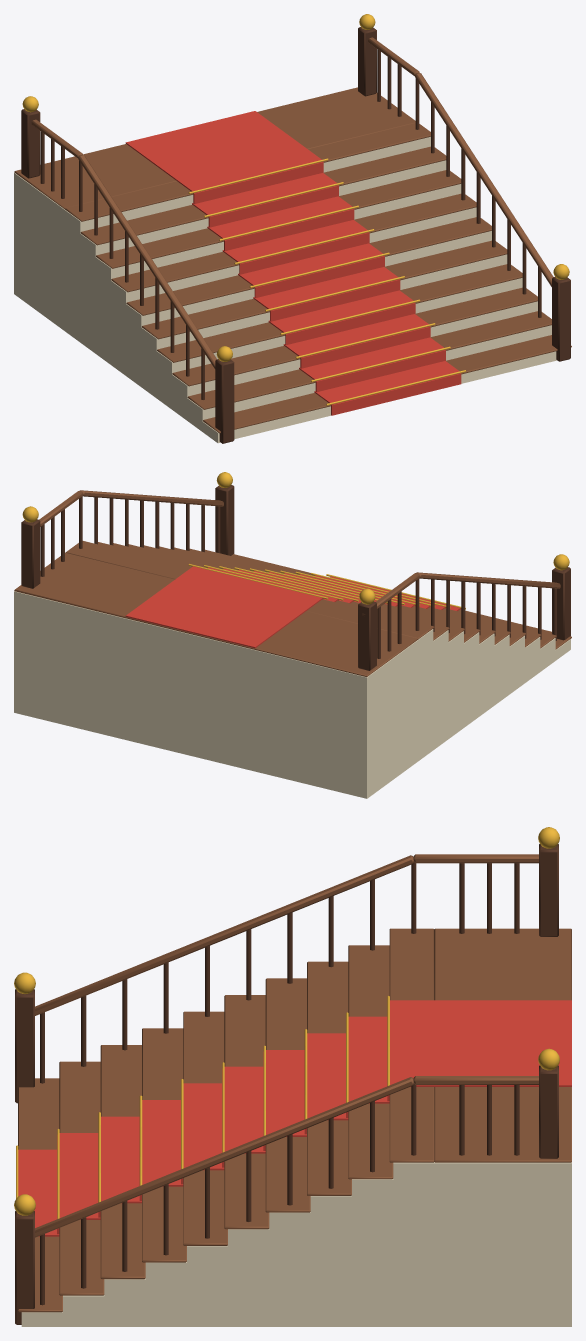
Rendered from grand_staircase.glb.
3 renders of one model, top to bottom at view 1: azimuth 30°, elevation 25°; view 2: azimuth 150°, elevation 25°; view 3: azimuth 270°, elevation 25°, orthographic. The views are drawn at different scales.
Visible parts, largest first — view 1: grand_staircase; view 2: grand_staircase; view 3: grand_staircase.
Part boxes in pixels (x1=…): grand_staircase: x1=14, y1=14, x2=571, y2=443; grand_staircase: x1=14, y1=472, x2=571, y2=798; grand_staircase: x1=14, y1=827, x2=571, y2=1326.
Bounding box in the file's own units: 6 × 3.27 × 6.08.
